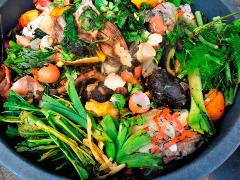organic: (40, 108, 103, 162), (38, 63, 74, 90), (192, 42, 220, 70), (131, 90, 159, 114), (207, 87, 229, 115)
